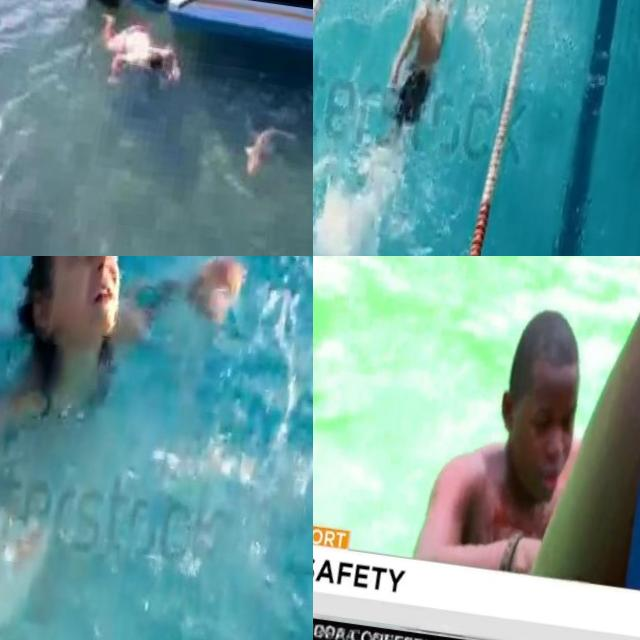drowning: (0, 256, 263, 635)
swimming: (416, 283, 612, 580), (377, 0, 475, 191), (77, 0, 184, 92)
